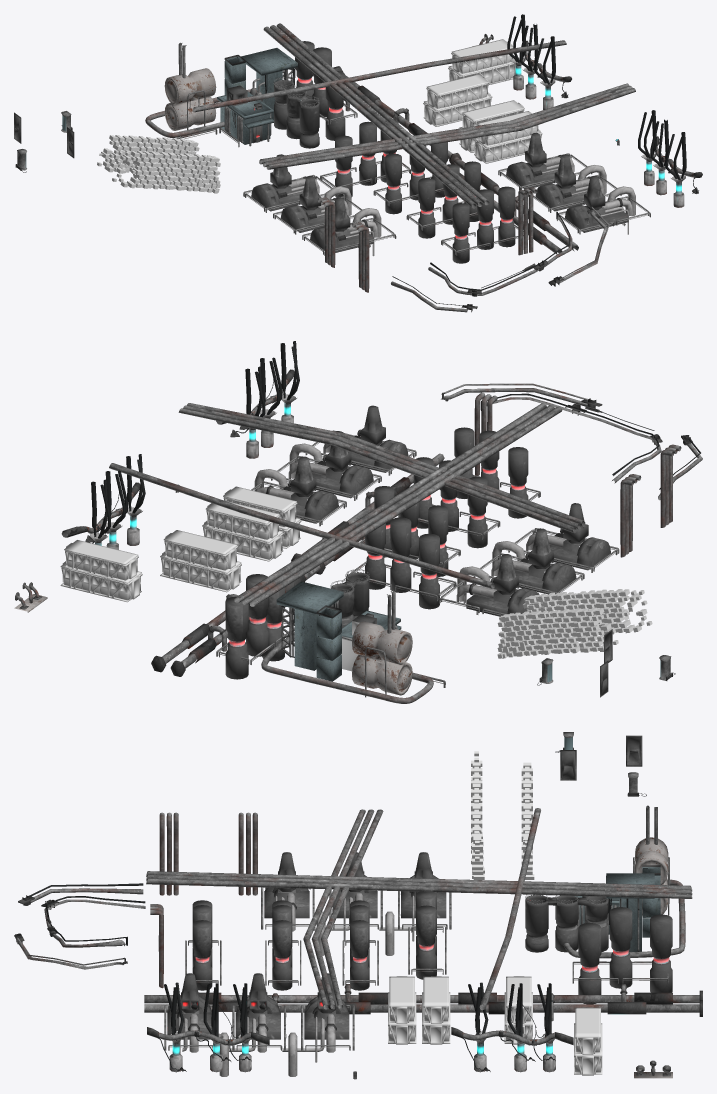
Rendered from containment_objects.fbx.
The picture shows the model from 3 angles, top to bottom: view 1: azimuth 30°, elevation 25°; view 2: azimuth 150°, elevation 25°; view 3: azimuth 270°, elevation 25°; orthographic projection. The views are drawn at different scales.
Parts seen in each view (by area): view 1: Up thing, Big machine, CubesOnWall, Level6 Zone 4.001, Level6 Zone 4.002, CorridorPipes, PipesUnderBridge, Level5Niv1.008, Level5Niv1.009, Level5Niv1.007, Level5Niv1.001, Level5Niv1.003 (+23 smaller); view 2: Up thing, Big machine, CubesOnWall, PipesUnderBridge, CorridorPipes, Level6 Zone 4.002, Level6 Zone 4.001, Level5Niv1.003, Level5Niv1.001, Level5Niv1.008, Level5Niv1.009, Level5Niv1.004 (+23 smaller); view 3: Up thing, Big machine, PipesUnderBridge, Level6 Zone 4.001, Level6 Zone 4.002, CorridorPipes, CubesOnWall, Level5Niv1.009, Level5Niv1.008, Level5Niv1.007, Rooms 4.008, Level5Niv1.001 (+18 smaller).
Part boxes in pixels (x1,y1,x2,y2): Up thing: [192, 23, 635, 208]; Big machine: [145, 42, 319, 148]; CubesOnWall: [97, 135, 220, 193]; Level6 Zone 4.001: [638, 110, 702, 207]; Level6 Zone 4.002: [507, 14, 571, 109]; CorridorPipes: [391, 206, 609, 312]; PipesUnderBridge: [333, 66, 578, 254]; Level5Niv1.008: [535, 154, 635, 215]; Level5Niv1.009: [506, 133, 606, 194]; Level5Niv1.007: [565, 176, 633, 234]; Level5Niv1.001: [251, 154, 351, 215]; Level5Niv1.003: [280, 176, 381, 237]; Up thing: [109, 403, 585, 606]; Big machine: [261, 569, 445, 703]; CubesOnWall: [497, 589, 652, 658]; PipesUnderBridge: [151, 453, 444, 676]; CorridorPipes: [441, 383, 702, 500]; Level6 Zone 4.002: [61, 454, 145, 549]; Level6 Zone 4.001: [216, 341, 299, 458]; Level5Niv1.003: [491, 528, 576, 594]; Level5Niv1.001: [456, 554, 539, 616]; Level5Niv1.008: [288, 431, 373, 498]; Level5Niv1.009: [254, 456, 338, 523]; Level5Niv1.004: [526, 503, 610, 570]; Up thing: [146, 808, 692, 1010]; Big machine: [525, 805, 685, 958]; PipesUnderBridge: [144, 984, 702, 1021]; Level6 Zone 4.001: [147, 982, 269, 1072]; Level6 Zone 4.002: [451, 982, 573, 1072]; CorridorPipes: [14, 883, 145, 969]; CubesOnWall: [471, 751, 534, 879]; Level5Niv1.009: [282, 973, 349, 1076]; Level5Niv1.008: [219, 973, 280, 1076]; Level5Niv1.007: [167, 973, 211, 1054]; Rooms 4.008: [609, 907, 632, 988]; Level5Niv1.001: [379, 852, 446, 955].
Bounding box in the file's own units: 21018 × 4103 × 20989.
